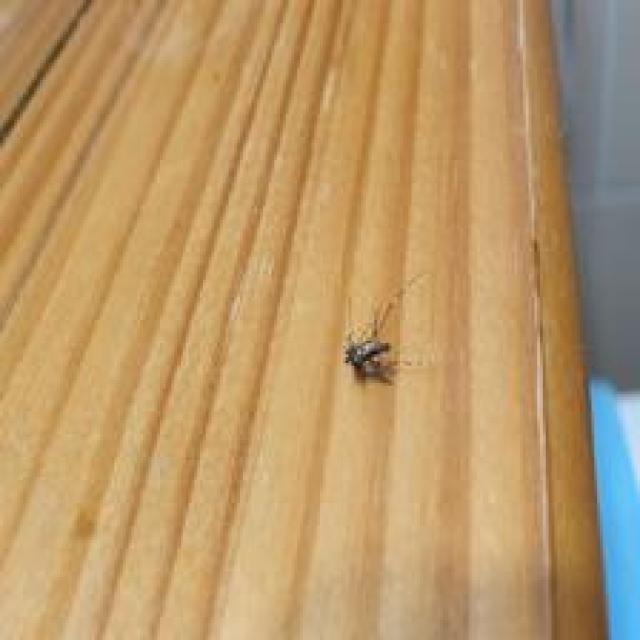Aedes albopictus: (340, 273, 423, 387)
